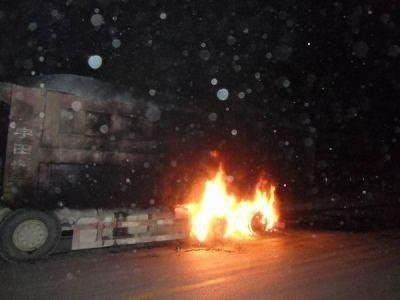fire: (183, 166, 279, 243)
